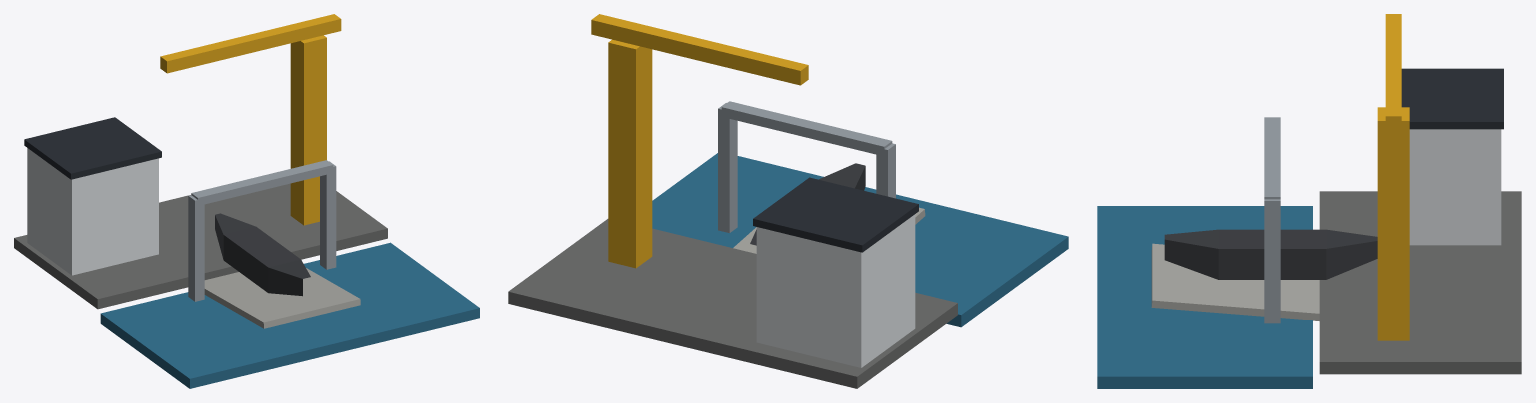
Rendered from bld_special_shipyard_a08_lod2.glb.
3 views of the same model, side by side, from view 1: azimuth 30°, elevation 25°; view 2: azimuth 150°, elevation 25°; view 3: azimuth 270°, elevation 25° (orthographic). The views are drawn at different scales.
Visible parts, largest first — view 1: body, crane; view 2: body, crane; view 3: body, crane.
Part boxes in pixels (box(x1,y1,x2,y2)): body: box(14, 117, 479, 388); crane: box(160, 14, 341, 225); body: box(508, 101, 1068, 388); crane: box(591, 14, 808, 268); body: box(1097, 68, 1521, 388); crane: box(1377, 14, 1409, 340).
Bounding box in the file's own units: 15 × 10.7 × 15.75.
